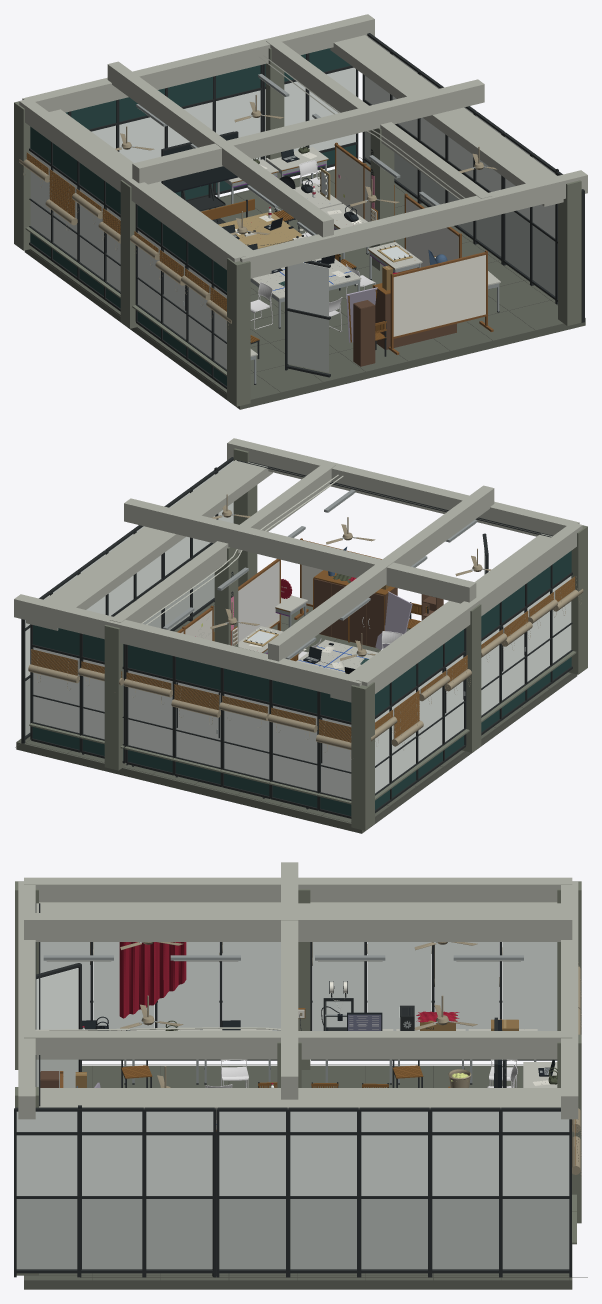
Rendered from adjacent-aligned.glb.
3 views of the same model, one above another, from view 1: azimuth 30°, elevation 25°; view 2: azimuth 150°, elevation 25°; view 3: azimuth 270°, elevation 25° (orthographic). The views are drawn at different scales.
Visible parts, largest first — view 1: architecture, services, window-portals, furniture, foliage-panels, central-furniture, details-perimeter-0-1, details-perimeter--2-0, details-perimeter--1-1, details-central, details-perimeter--1--1, details-perimeter--1-0; view 2: services, architecture, window-portals, foliage-panels, furniture, details-perimeter--2-0, central-furniture, details-perimeter--1-1, details-perimeter--1-0; view 3: architecture, window-portals, services, furniture, details-perimeter-1-1, details-perimeter-1--1, details-perimeter-1-0, details-perimeter-1--2.
Boxes of the visible parts, x1,y1,x2,y2 form: architecture: [14, 33, 585, 409]; services: [19, 14, 587, 278]; window-portals: [30, 36, 555, 369]; furniture: [161, 131, 500, 384]; foliage-panels: [30, 48, 355, 385]; central-furniture: [201, 199, 375, 331]; details-perimeter-0-1: [346, 287, 377, 366]; details-perimeter--2-0: [406, 199, 457, 266]; details-perimeter--1-1: [347, 250, 447, 342]; details-central: [222, 207, 350, 291]; details-perimeter--1--1: [298, 167, 362, 230]; details-perimeter--1-0: [371, 149, 412, 262]; services: [14, 438, 582, 702]; architecture: [15, 448, 587, 833]; window-portals: [25, 460, 571, 799]; foliage-panels: [32, 550, 571, 815]; furniture: [82, 538, 428, 809]; details-perimeter--2-0: [213, 562, 278, 642]; central-furniture: [290, 631, 402, 672]; details-perimeter--1-1: [303, 547, 411, 650]; details-perimeter--1-0: [230, 571, 278, 647]; architecture: [14, 881, 587, 1289]; window-portals: [16, 942, 569, 1195]; services: [18, 862, 578, 1119]; furniture: [60, 1017, 557, 1131]; details-perimeter-1-1: [82, 942, 153, 1030]; details-perimeter-1--1: [299, 981, 455, 1030]; details-perimeter-1-0: [154, 942, 305, 1030]; details-perimeter-1--2: [443, 1011, 518, 1087].
Bounding box in the file's own units: 9.01 × 4.08 × 9.95.
